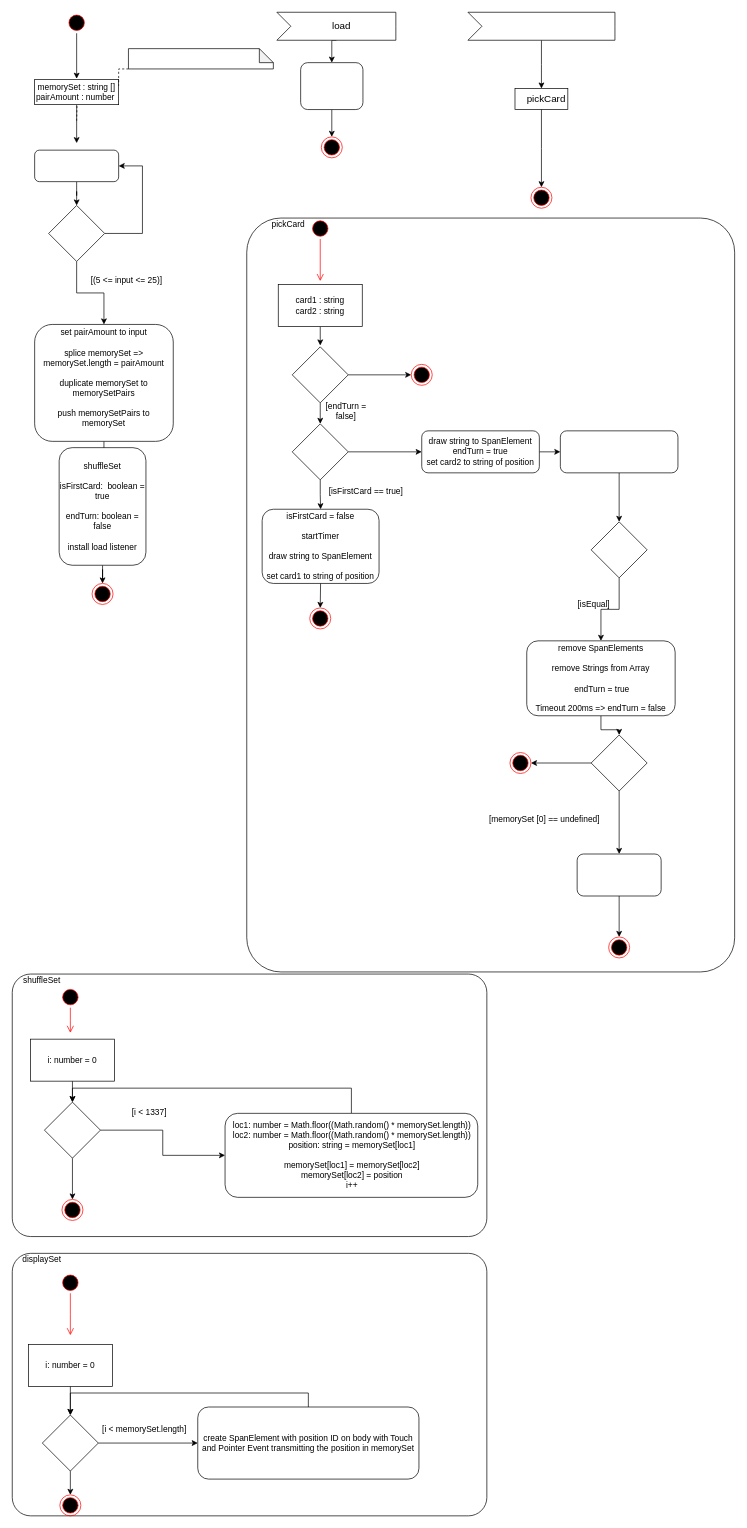
Image size: 747x1528. Some labels were removed from this diagram. Each missing label, with the centre of its shape:
5 <= memorySet.length <= 25: (x=200, y=58)
compare card1 to card2: (x=619, y=451)
EndTimer Display Winning Message + FinalTime: (x=618, y=874)
handleLoad displaySet: (x=331, y=86)
prompt ("Select Value between 5 - 25"): (x=76, y=165)
ToucherEvent / PointerEvent: (x=541, y=26)
